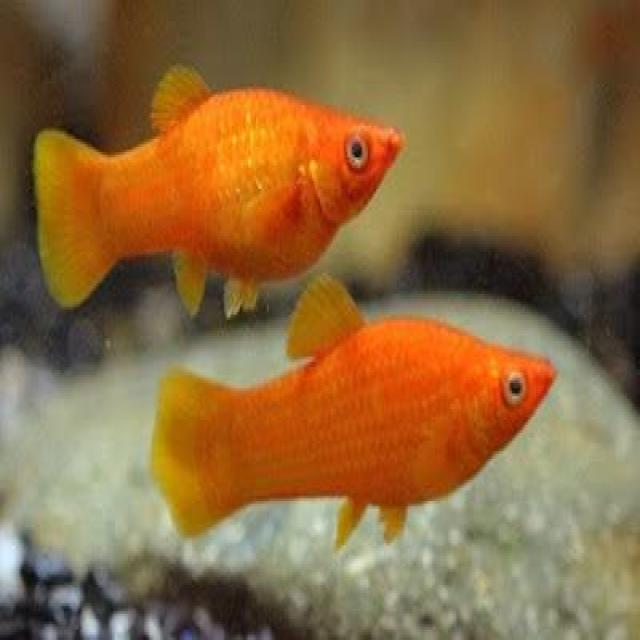PlatyFish: (134, 270, 560, 559), (28, 51, 423, 324)
